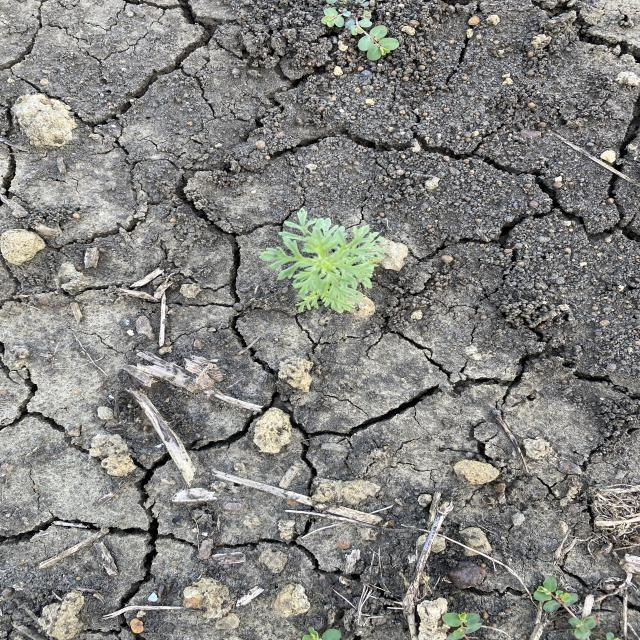Ragweed: (256, 206, 391, 316)
SpottedSpurge: (296, 575, 627, 639), (320, 5, 402, 62)
